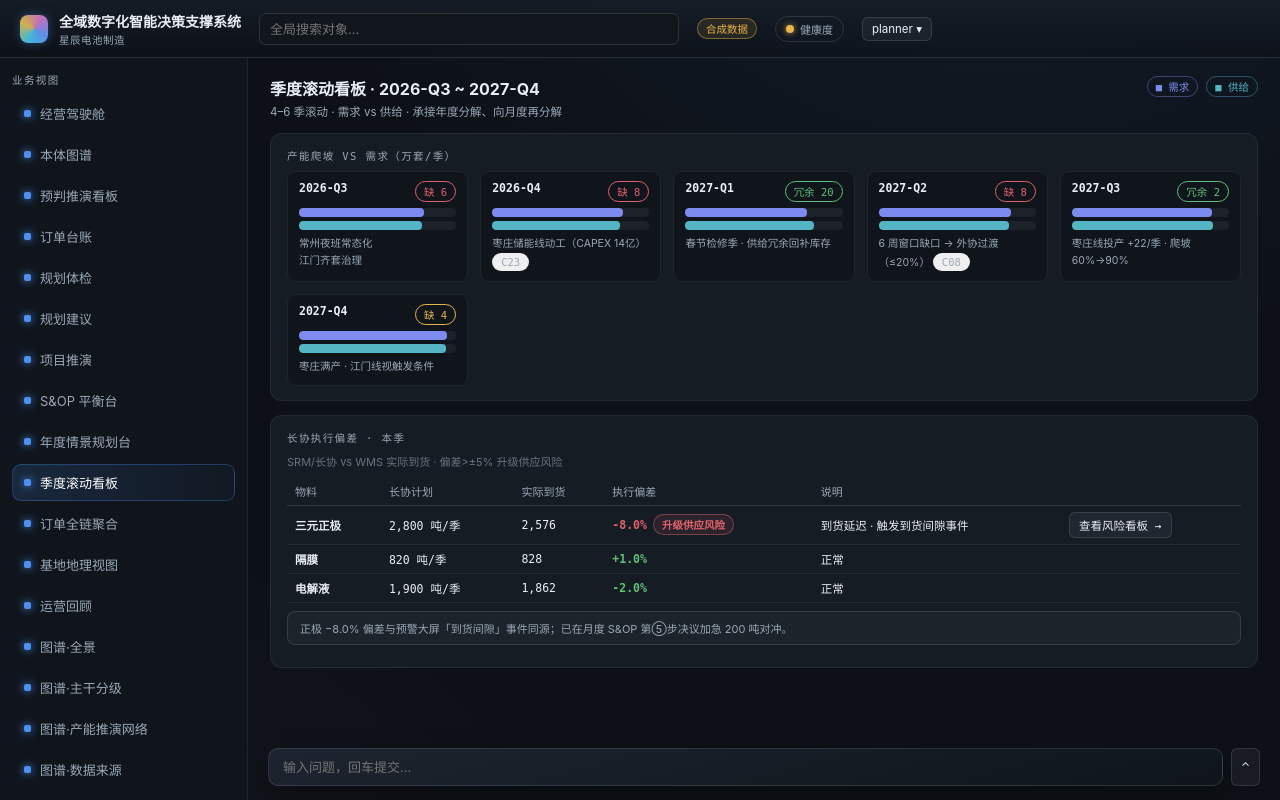
F22 · 季度滚动看板（quarterly-rolling） › 事件注释行规则 chip 可点开 expression
Click the button with test id "qrule-2027-Q2-C08" at (951, 262), box [933,253,970,271]
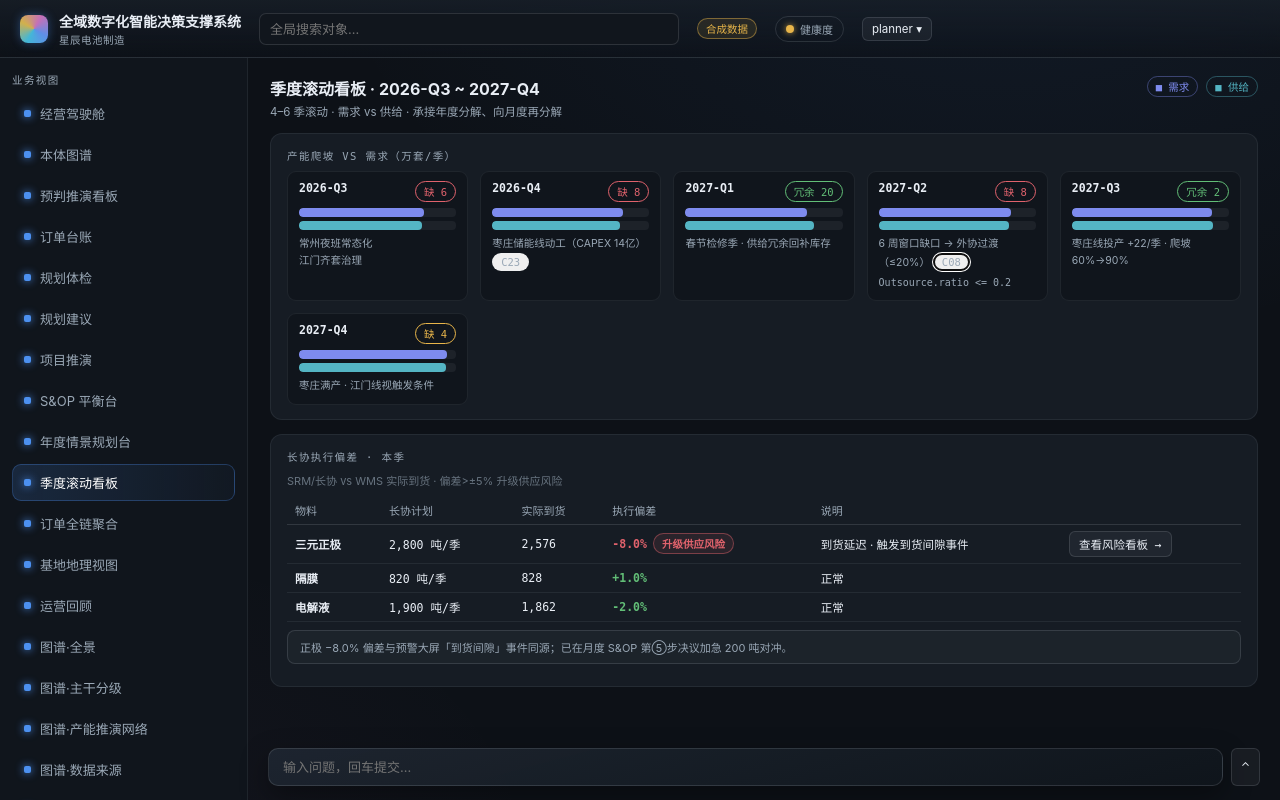
Expected: the text with test id "qrule-expression" reads "Outsource.ratio <= 0.2", [879,277,1011,288]
